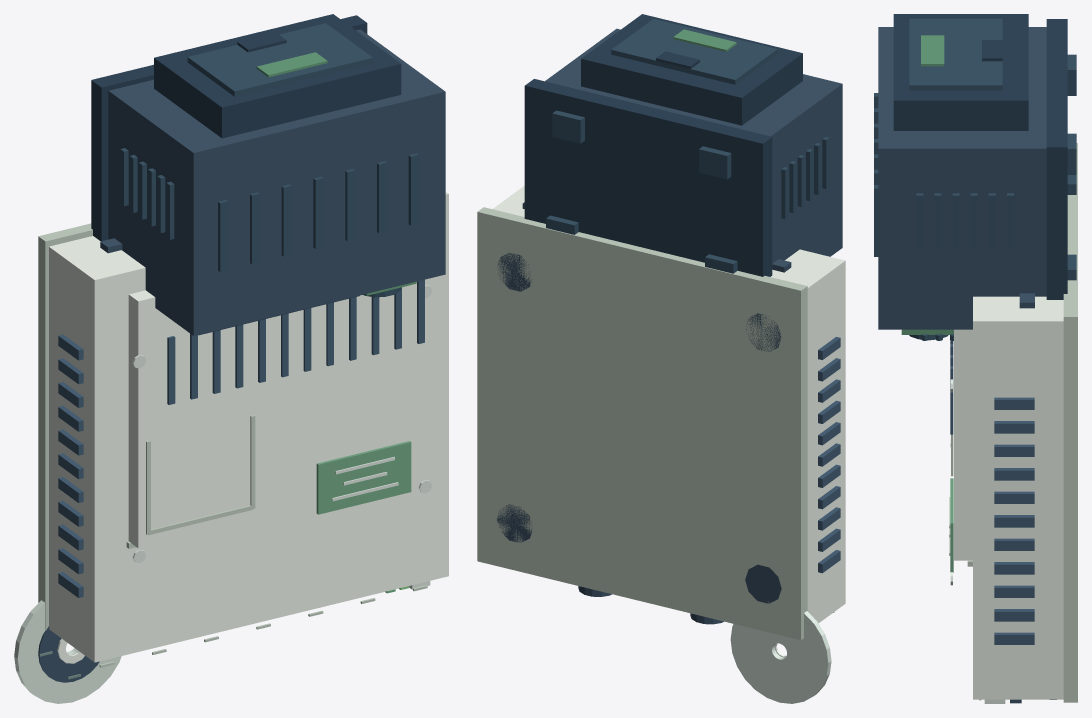
The model's file is psx_dvr_crt_set.glb.
3 views of the same model, side by side, from view 1: azimuth 30°, elevation 25°; view 2: azimuth 150°, elevation 25°; view 3: azimuth 270°, elevation 25° (orthographic). The views are drawn at different scales.
Visible parts, largest first — view 1: psx_dvr_crt_set; view 2: psx_dvr_crt_set; view 3: psx_dvr_crt_set.
Boxes of the visible parts, x1=… form: psx_dvr_crt_set: x1=14, y1=14, x2=448, y2=703; psx_dvr_crt_set: x1=477, y1=14, x2=845, y2=703; psx_dvr_crt_set: x1=874, y1=14, x2=1077, y2=703.
Size of the model in its own units: 3.44 by 5.48 by 1.57.
